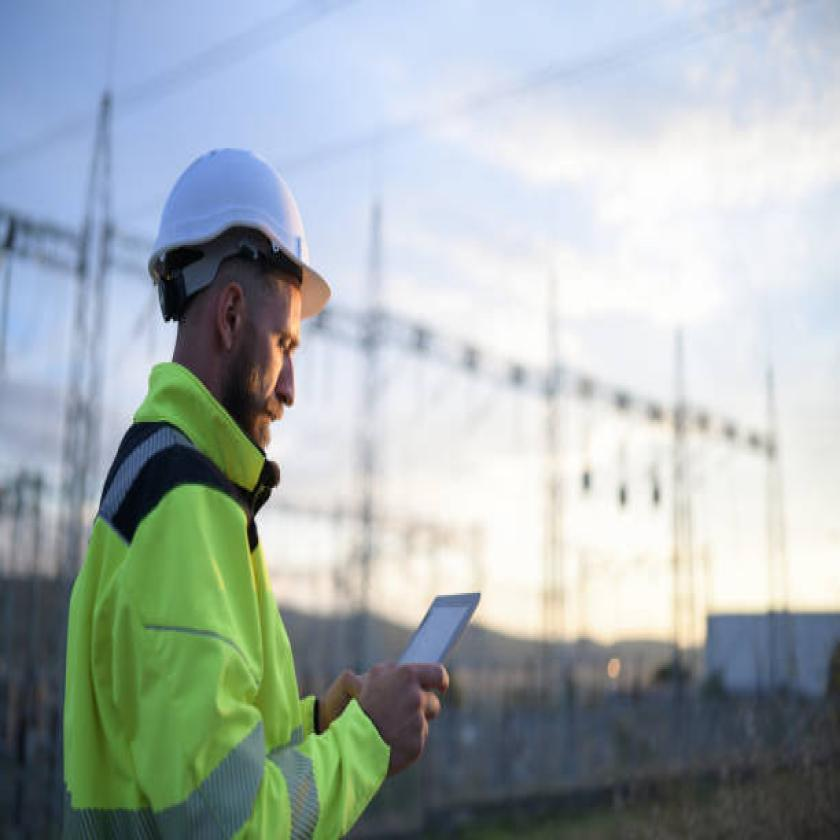Con_casco: (149, 139, 335, 469)
